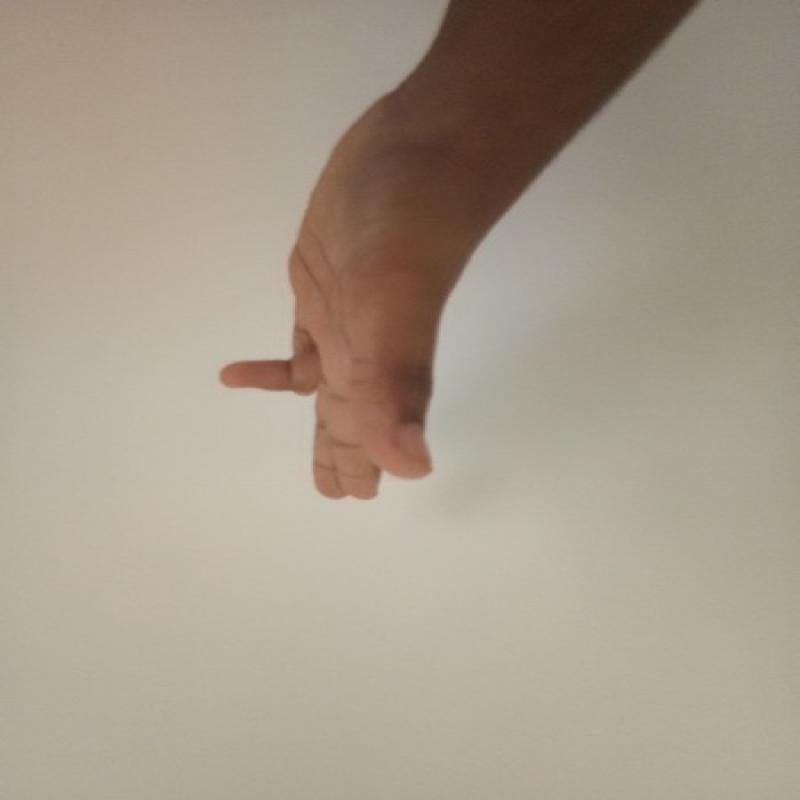Pathaaka: (210, 142, 468, 507)
